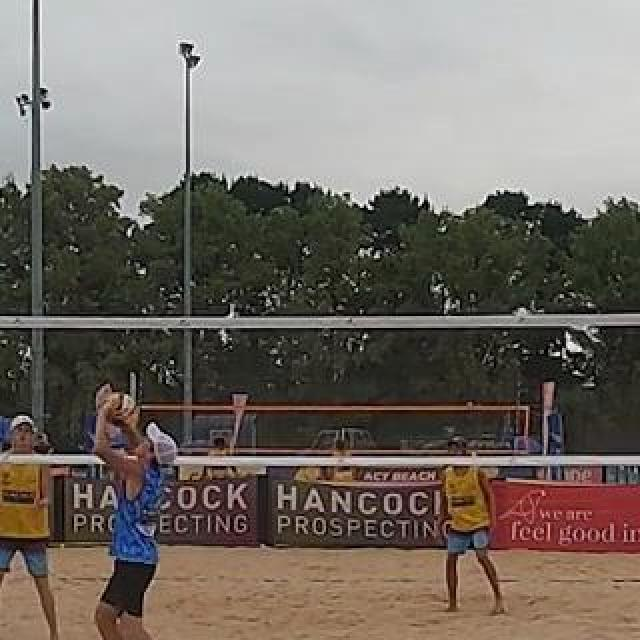volleyball: (105, 391, 139, 425)
